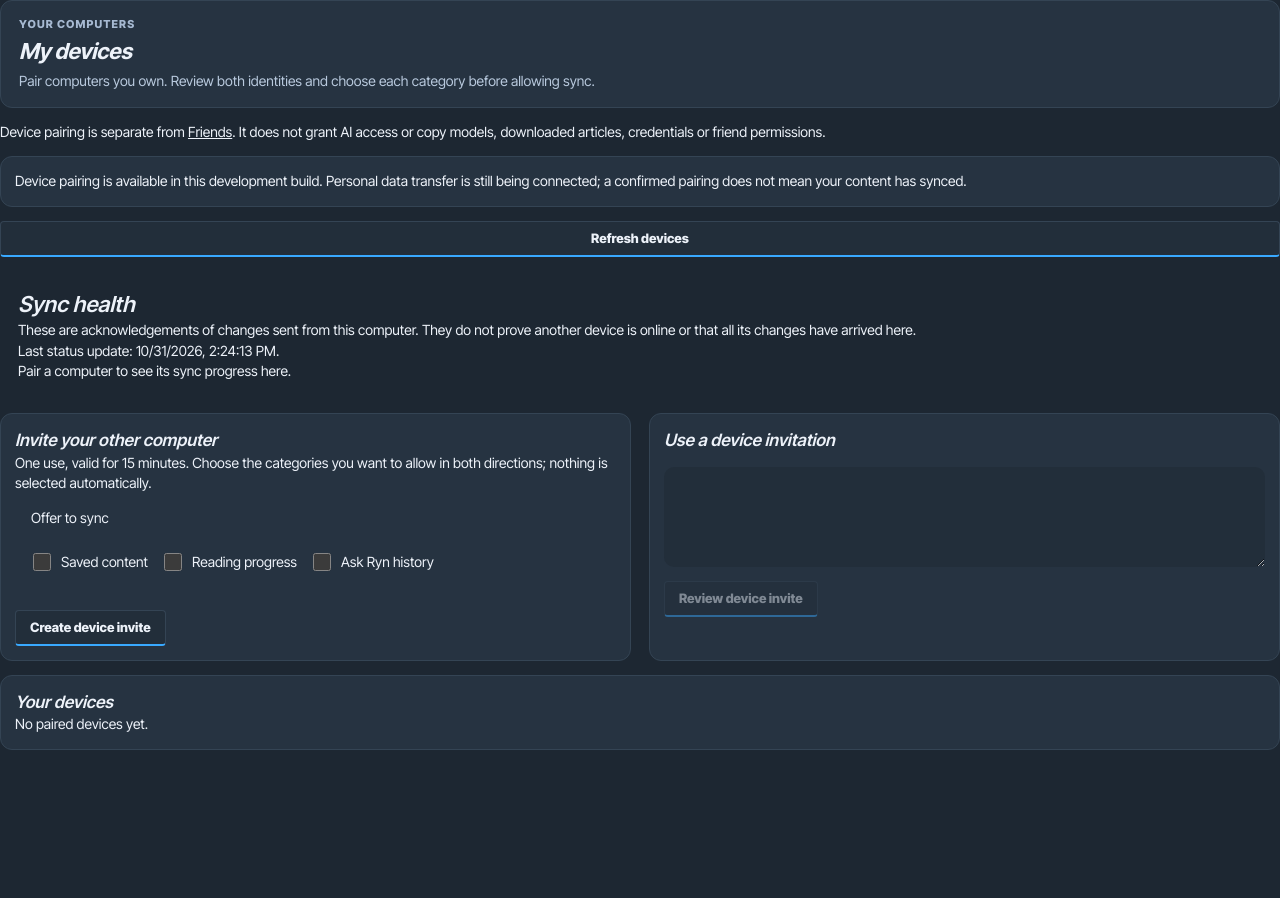
requires an explicit scope choice and preserves a copyable invite when clipboard fails
Expected: the text "No paired devices yet." is shown, [15, 715, 148, 732]
Expected: the checkbox labelled "Reading progress" is not checked, [164, 545, 182, 579]
Click the checkbox labelled "Saved content".
click(42, 562)  # box [33, 545, 51, 579]
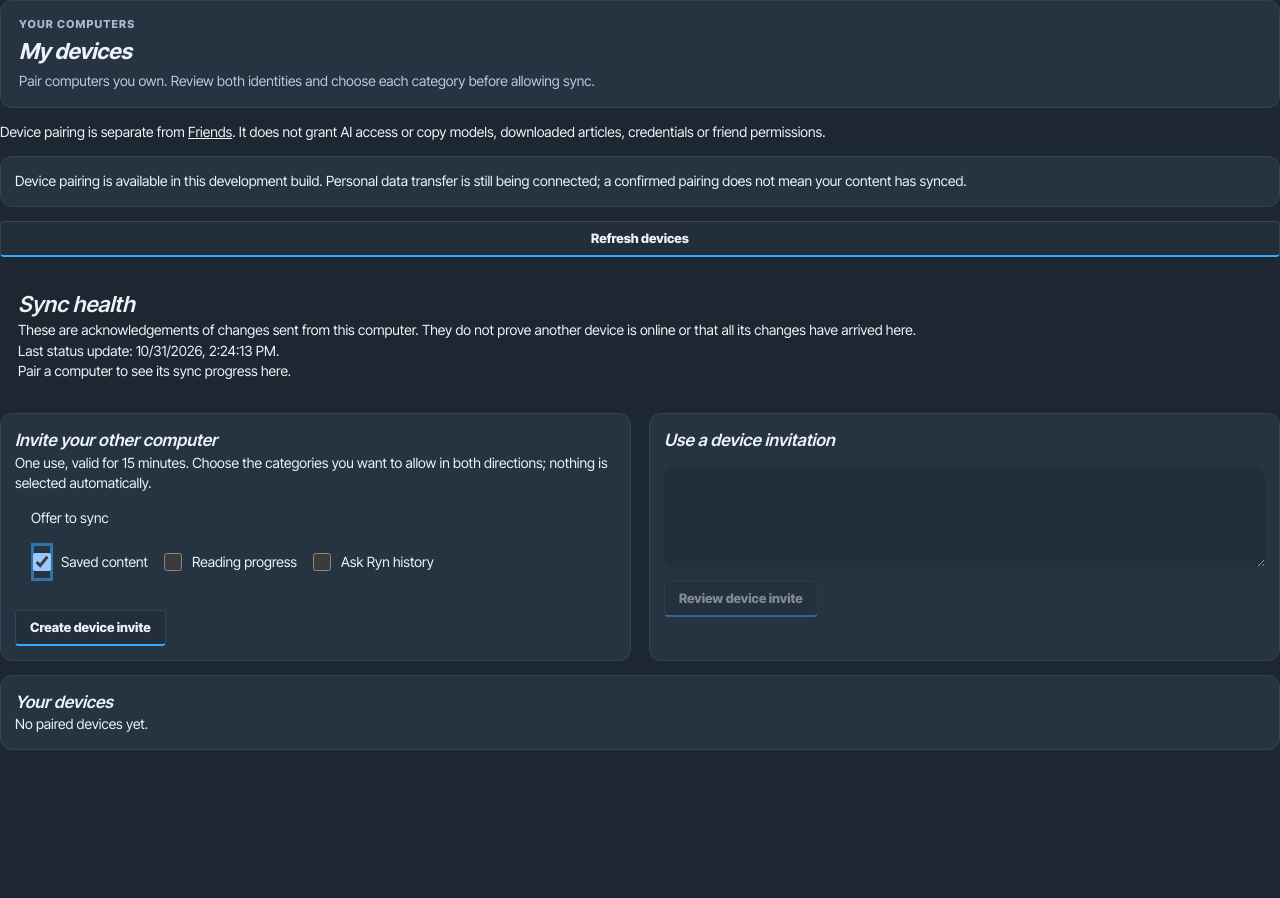
Click the button "Create device invite".
click(90, 628)  # box [15, 610, 166, 646]
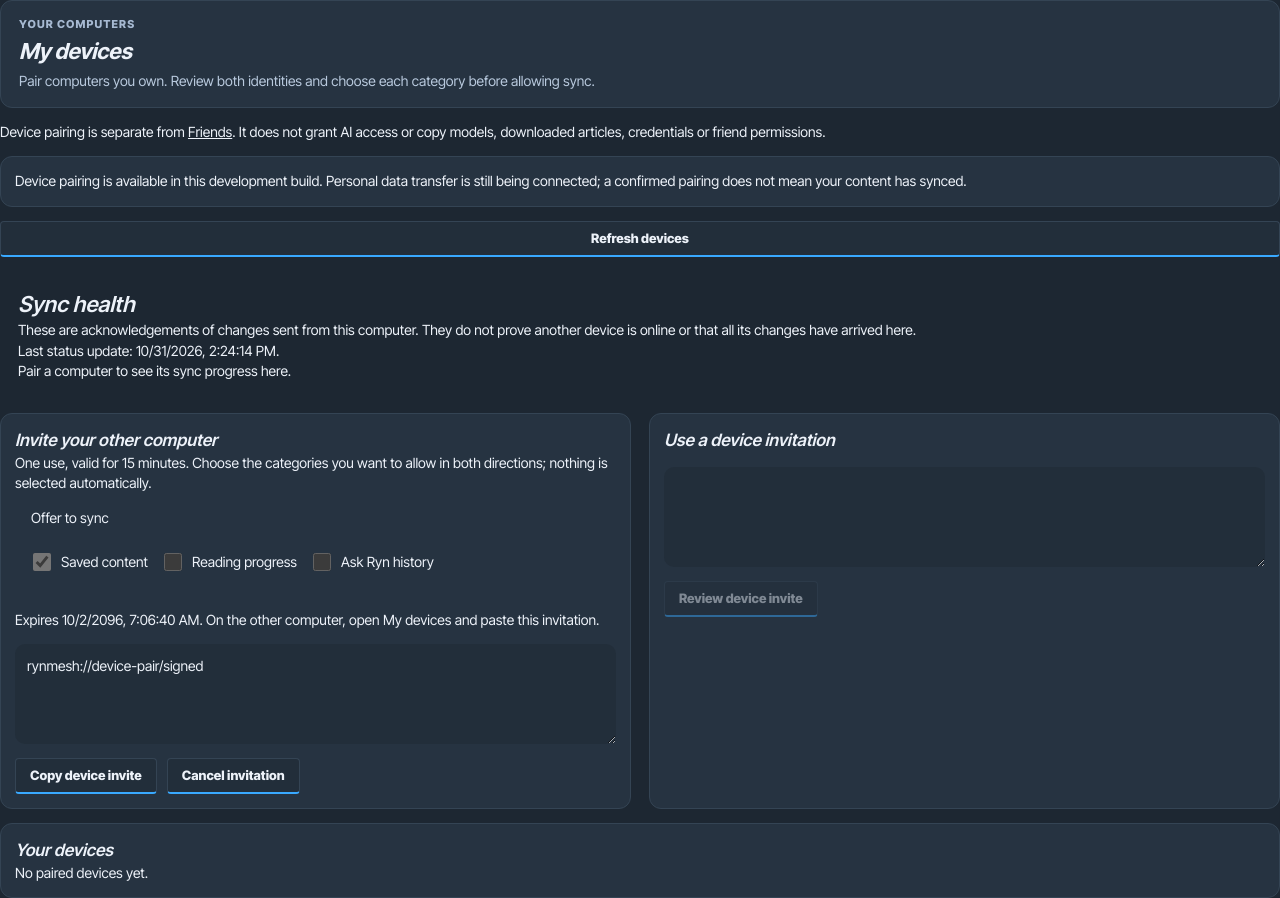
Click the button "Copy device invite".
click(86, 776)  # box [15, 758, 157, 794]
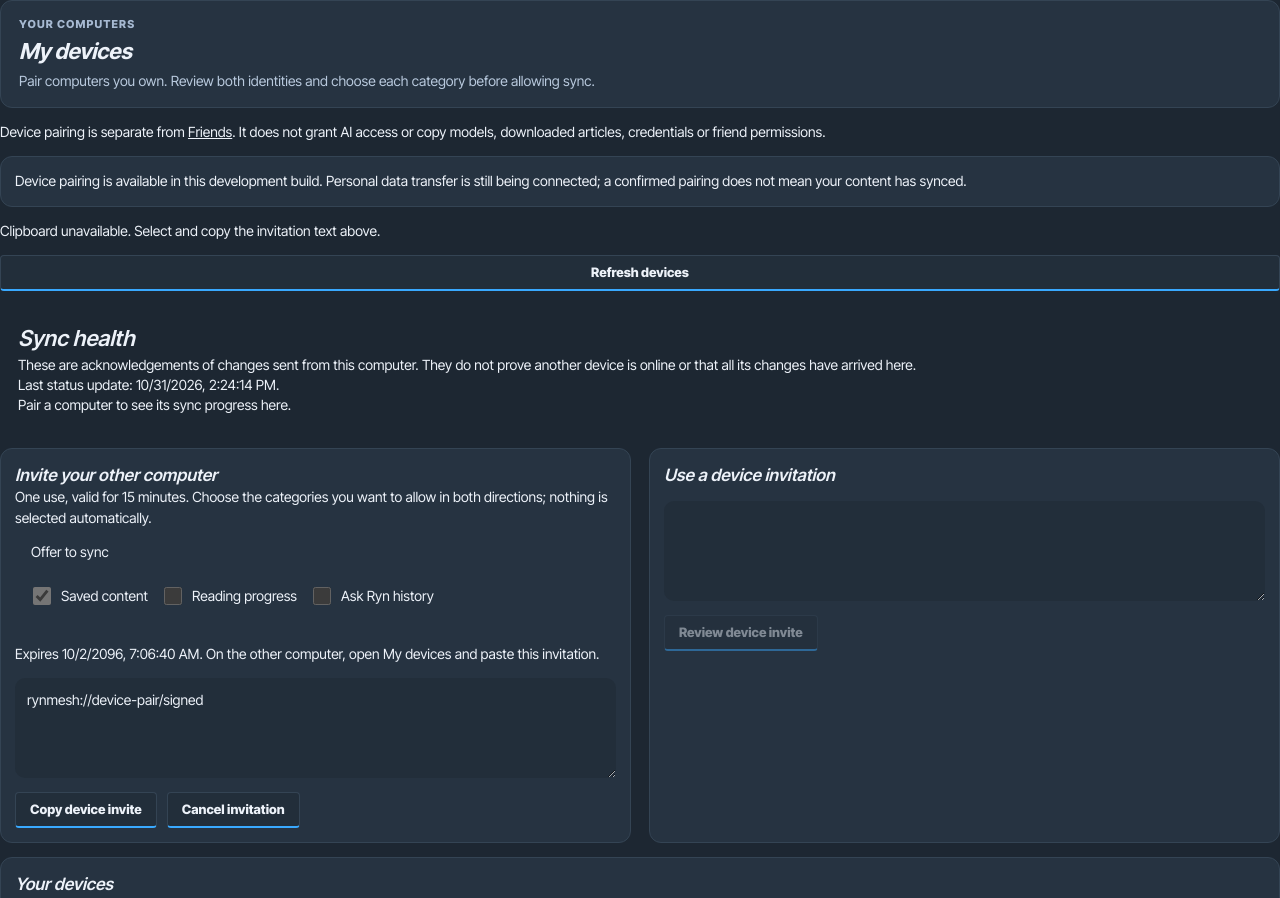
Expected: the text box named "Device invitation to copy" holds "rynmesh://device-pair/signed", [15, 678, 616, 778]
Expected: the message shows "Select and copy", [0, 222, 380, 239]
